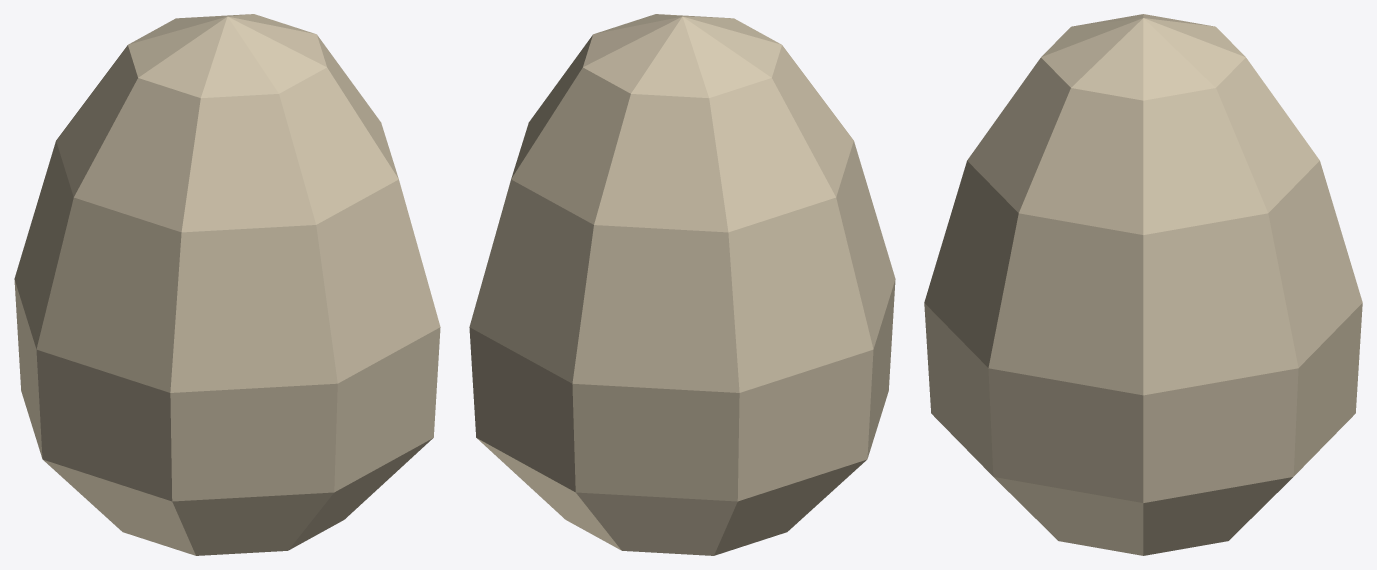
The model's file is egg 1.glb.
3 renders of one model, left to right at view 1: azimuth 30°, elevation 25°; view 2: azimuth 150°, elevation 25°; view 3: azimuth 270°, elevation 25°, orthographic.
Visible parts, largest first — view 1: Sphere; view 2: Sphere; view 3: Sphere.
Part boxes in pixels (<box>): Sphere: <box>14,14,440,555</box>; Sphere: <box>469,14,895,555</box>; Sphere: <box>924,14,1362,555</box>.
Bounding box in the file's own units: 0.2 × 0.2602 × 0.2.
